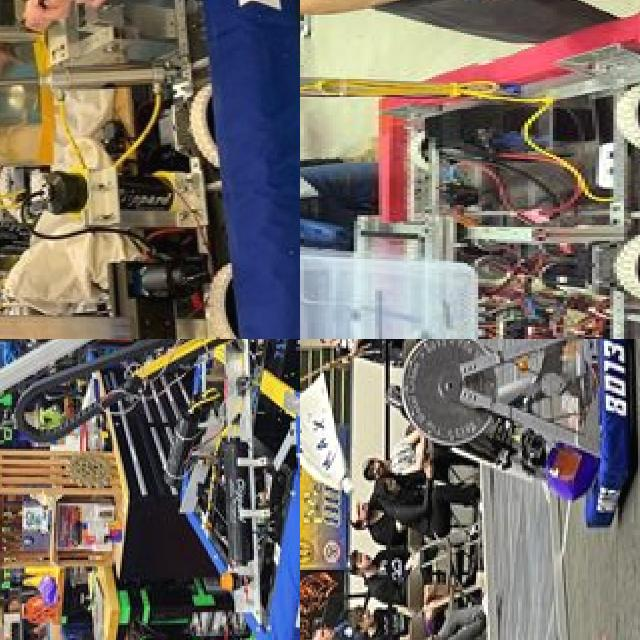FRC-Robots: (0, 0, 300, 339), (347, 0, 640, 339), (0, 339, 300, 638), (315, 339, 630, 614)
